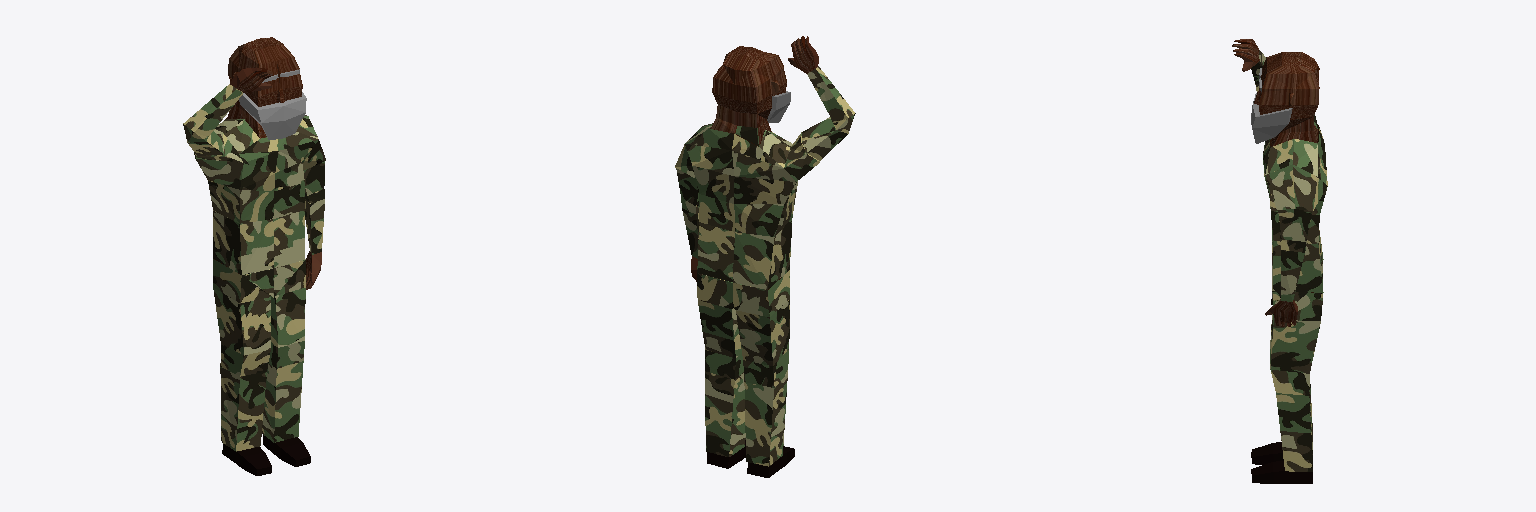
The picture shows the model from 3 angles: view 1: azimuth 30°, elevation 25°; view 2: azimuth 150°, elevation 25°; view 3: azimuth 270°, elevation 25°; orthographic projection.
Visible parts, largest first — view 1: Cube; view 2: Cube; view 3: Cube.
Part boxes in pixels (x1,y1,x2,y2): Cube: (183, 37, 325, 475); Cube: (675, 36, 855, 477); Cube: (1232, 39, 1327, 483).
Size of the model in its own units: 16.5 by 42.69 by 8.92.
Materials: 6 (2 with a texture image).